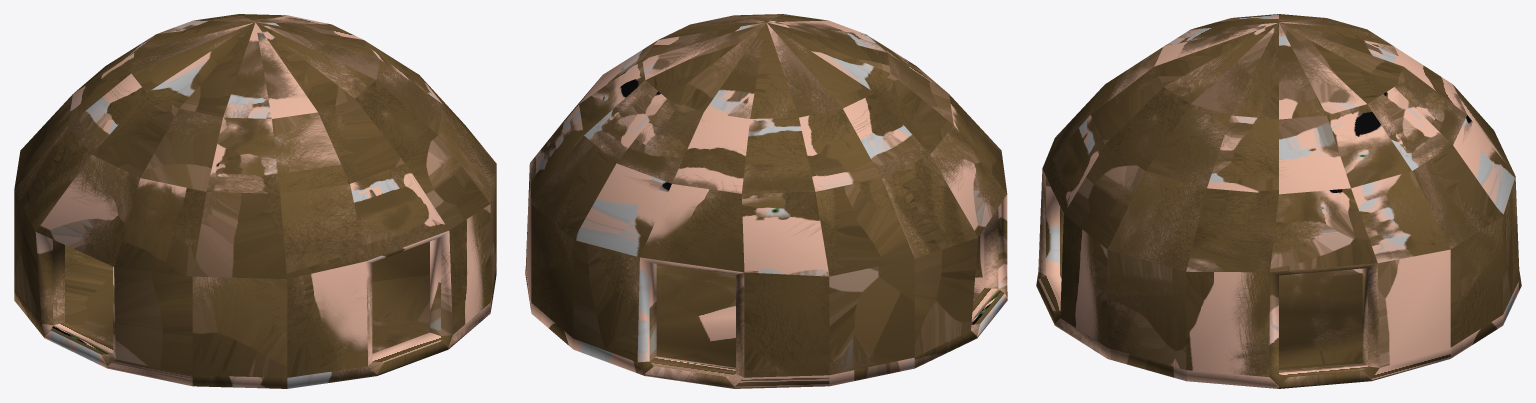
The model's file is Shelter.fbx.
3 views of the same model, side by side, from view 1: azimuth 30°, elevation 25°; view 2: azimuth 150°, elevation 25°; view 3: azimuth 270°, elevation 25° (orthographic).
Parts seen in each view (by area): view 1: Cylinder; view 2: Cylinder; view 3: Cylinder.
Part boxes in pixels (x1,y1,x2,y2): Cylinder: (14,14,496,388); Cylinder: (525,14,1007,388); Cylinder: (1036,14,1521,388).
Bounding box in the file's own units: 2024 × 1200 × 2000.
